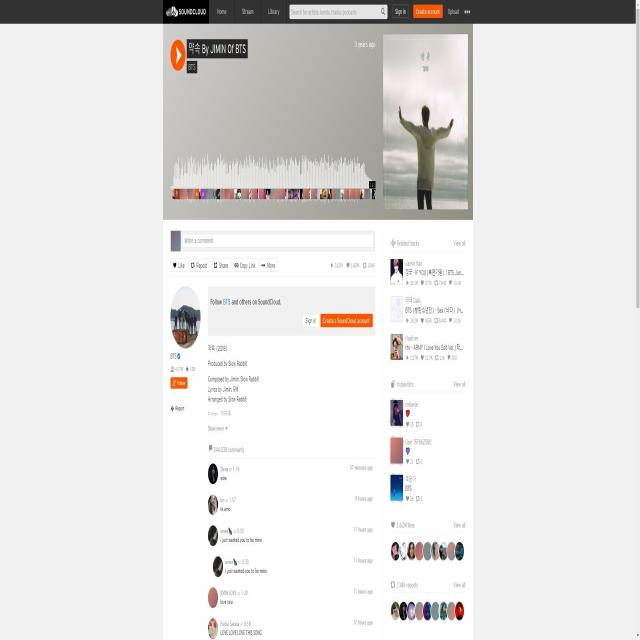button: (321, 314, 373, 327), (413, 5, 443, 18), (233, 259, 258, 272), (189, 258, 210, 272), (212, 258, 231, 271), (260, 259, 278, 272), (170, 376, 188, 389), (171, 258, 187, 272), (393, 5, 409, 18), (303, 314, 319, 327)
input: (183, 235, 373, 248), (290, 4, 378, 20)
